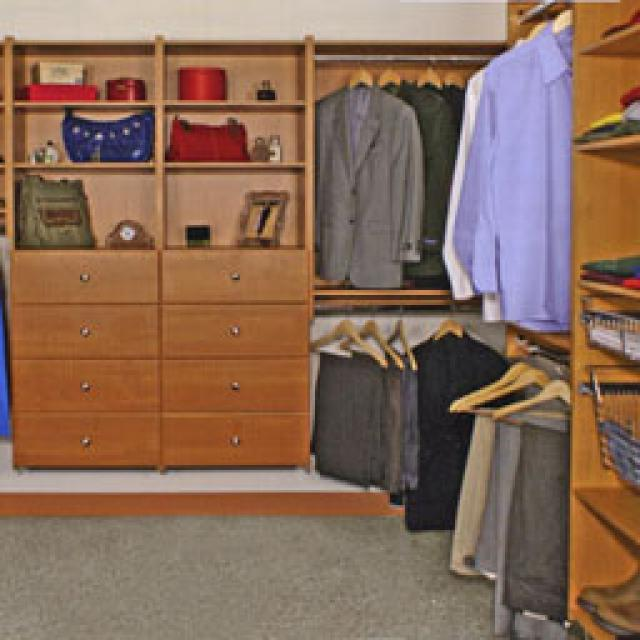box contants: (178, 65, 222, 98), (28, 58, 80, 82)
closet crop: (0, 0, 635, 638)
drawers crop: (10, 240, 305, 465)
floor -X: (0, 505, 540, 635)
hangers: (445, 360, 570, 412), (308, 318, 410, 362)
jacket: (405, 332, 528, 528), (380, 80, 455, 278)
jacket occluded: (312, 82, 422, 282)
photo frame: (230, 190, 288, 242)
purse occluded: (12, 172, 92, 245), (62, 108, 152, 158), (162, 115, 248, 158)
shirts: (440, 18, 568, 328)
trousers occluded: (448, 412, 568, 635), (310, 345, 415, 492)
